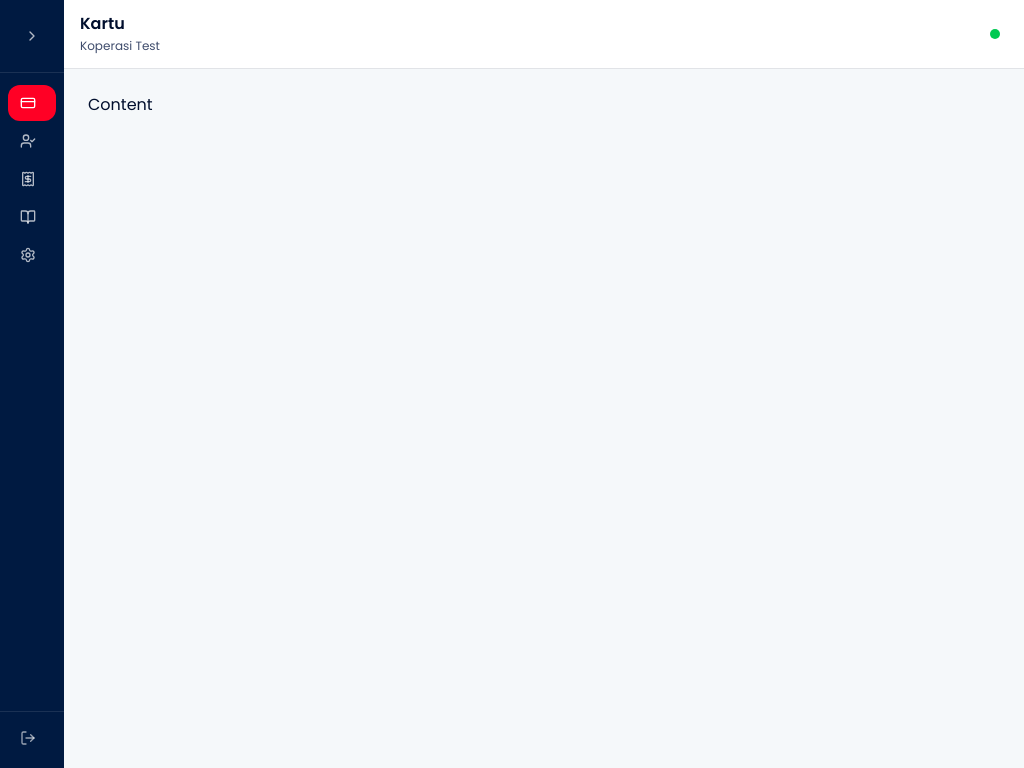
it: AdminLayout - sync drawer content › shows Online text in sync drawer when online
Click the button named "Lihat status sinkronisasi" at (995, 34), box [982,25,1008,43]
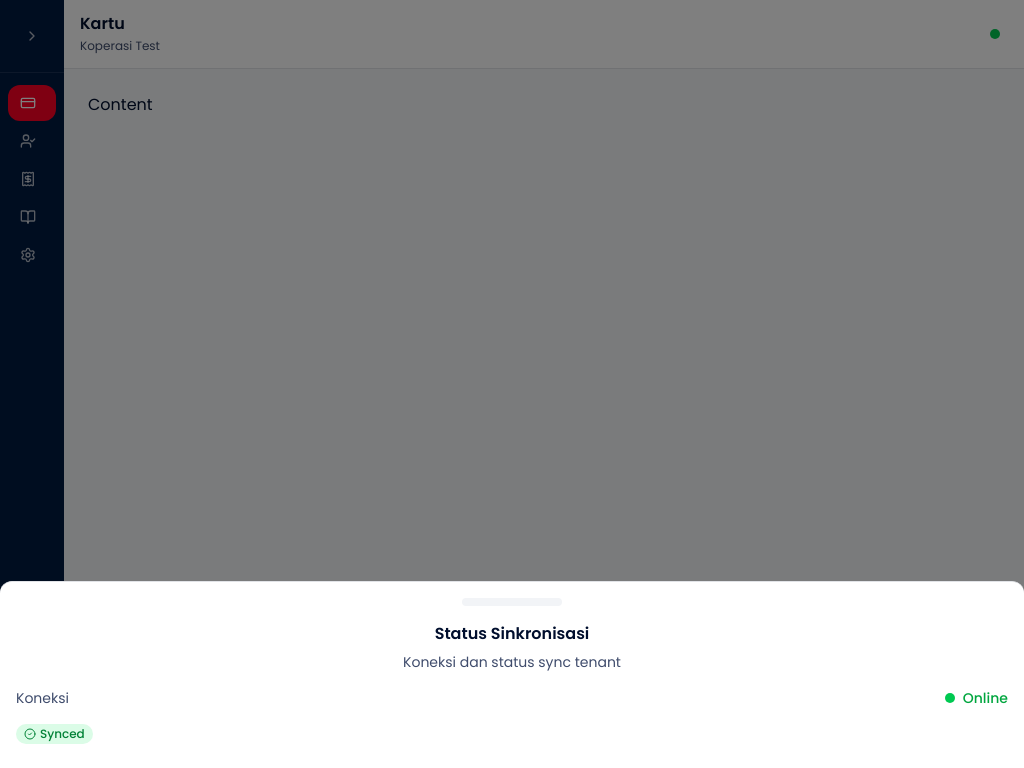
Now the text "Online" is shown, box [963,688,1008,708]
